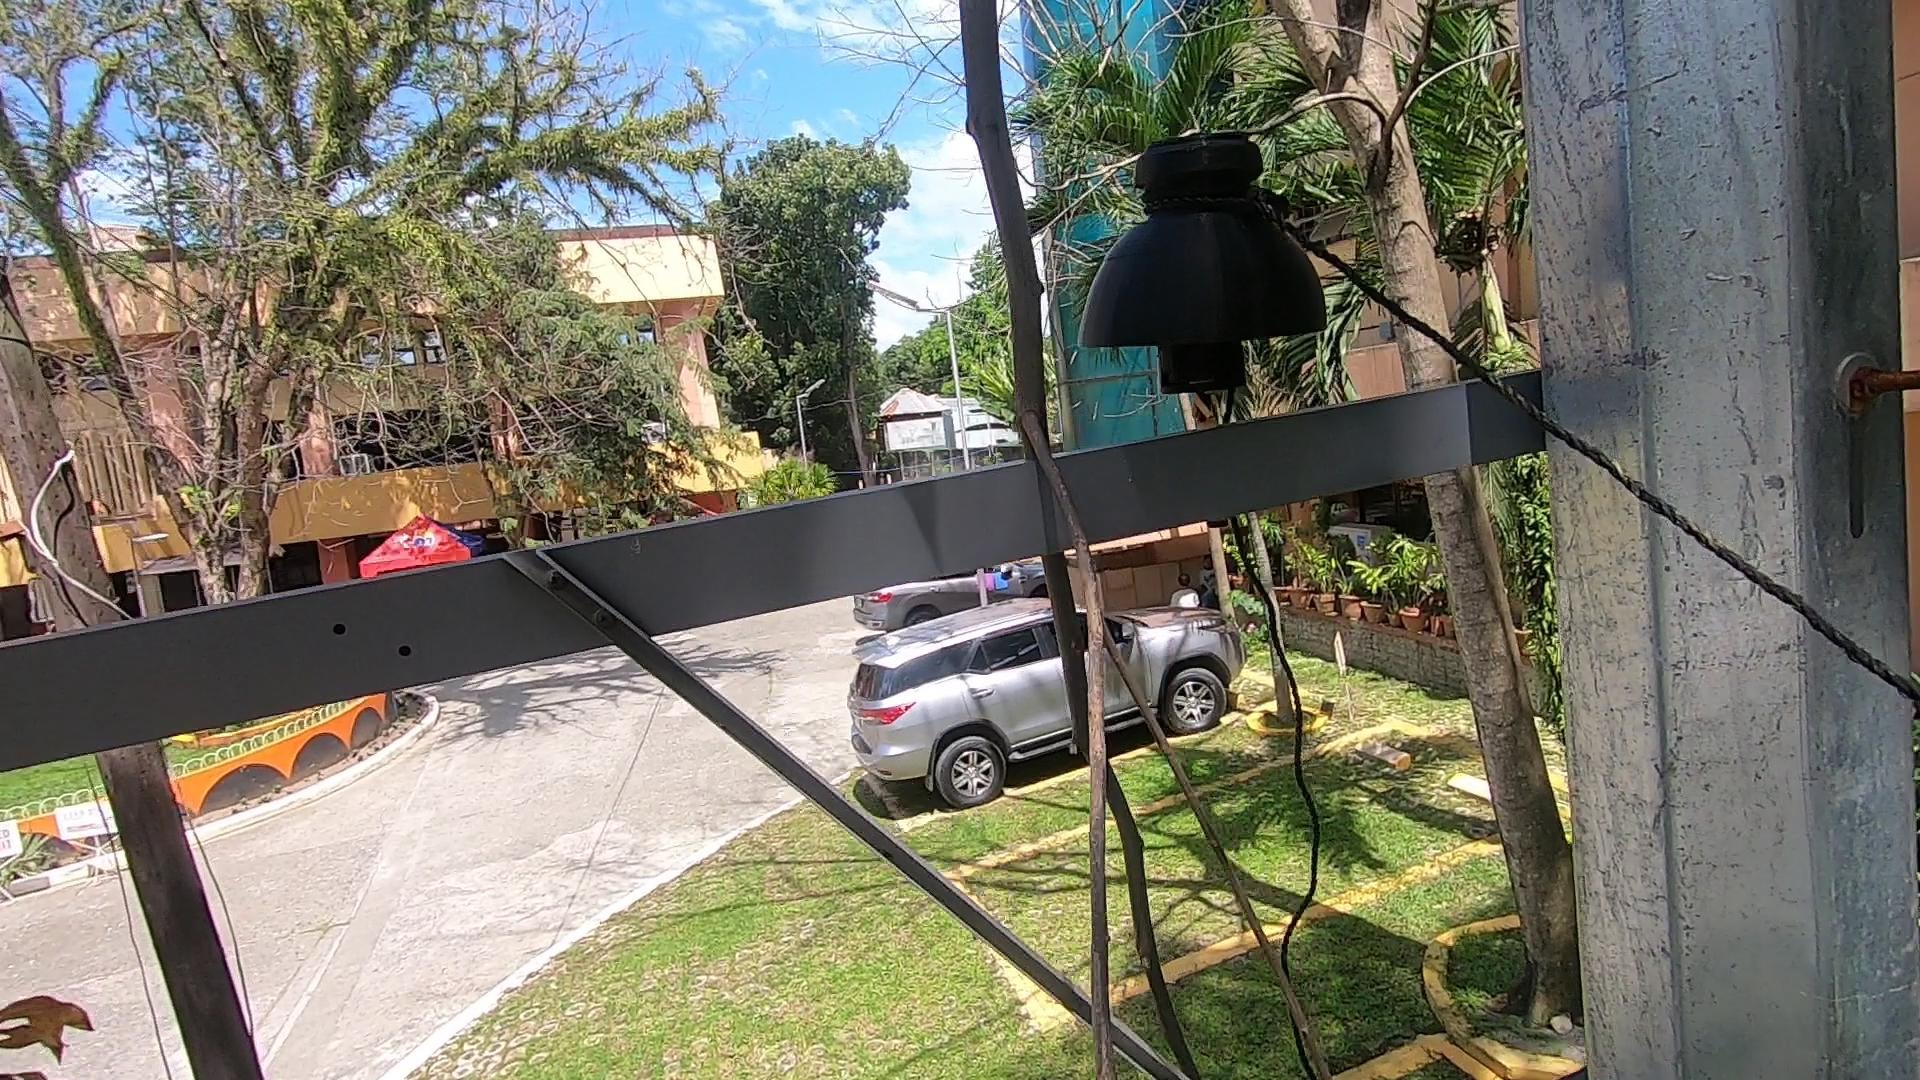tree branch: (895, 1, 1261, 1080)
